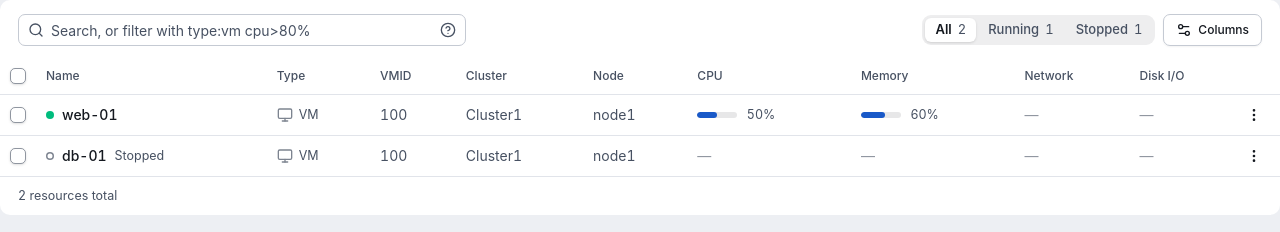
it: ResourceTable › narrows to one power state with the quick filter
Click the button "Stopped 1": [1109, 30] box [1066,18,1152,42]
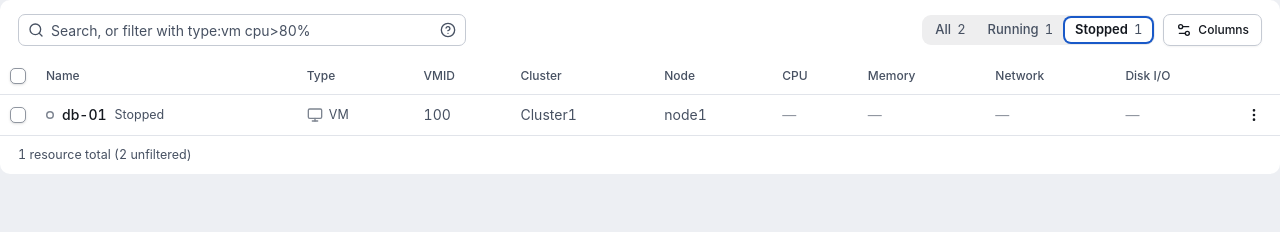
Check: the link "db-01" is shown, box [62,104,106,124]
Check: the link "web-01" is gone
Check: the text "1 resource total (2 unfiltered)" is shown, box [18,146,192,164]
